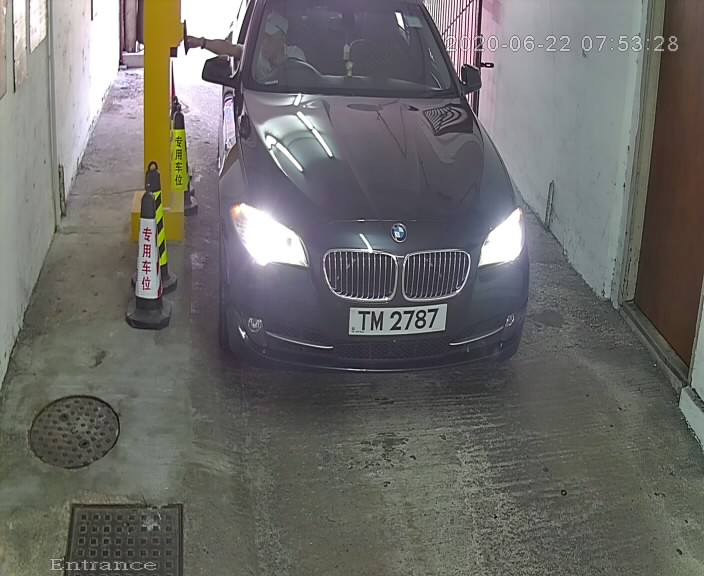privatecar: (170, 2, 545, 389)
